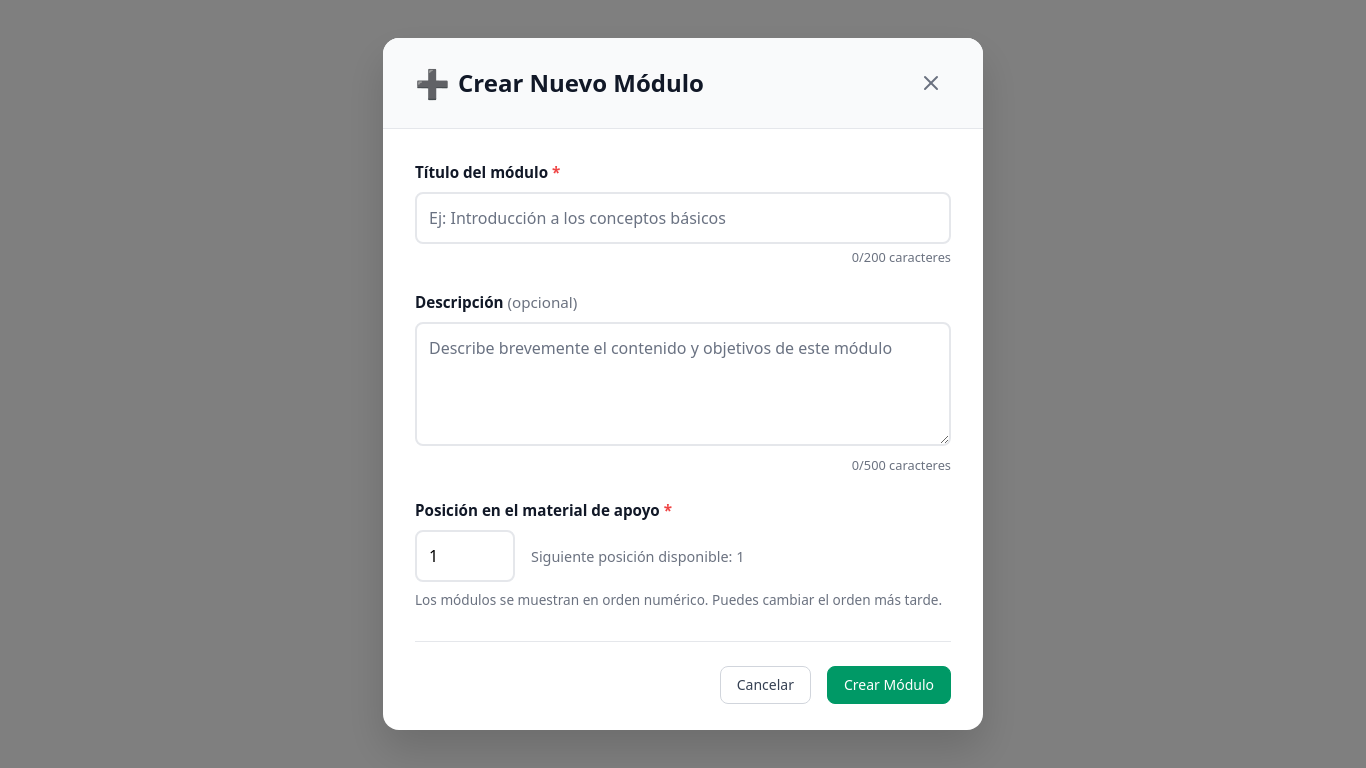
it: ModuleForm › validates required title before submitting
Click the button "Crear Módulo" at (889, 685), box [827,666,951,704]
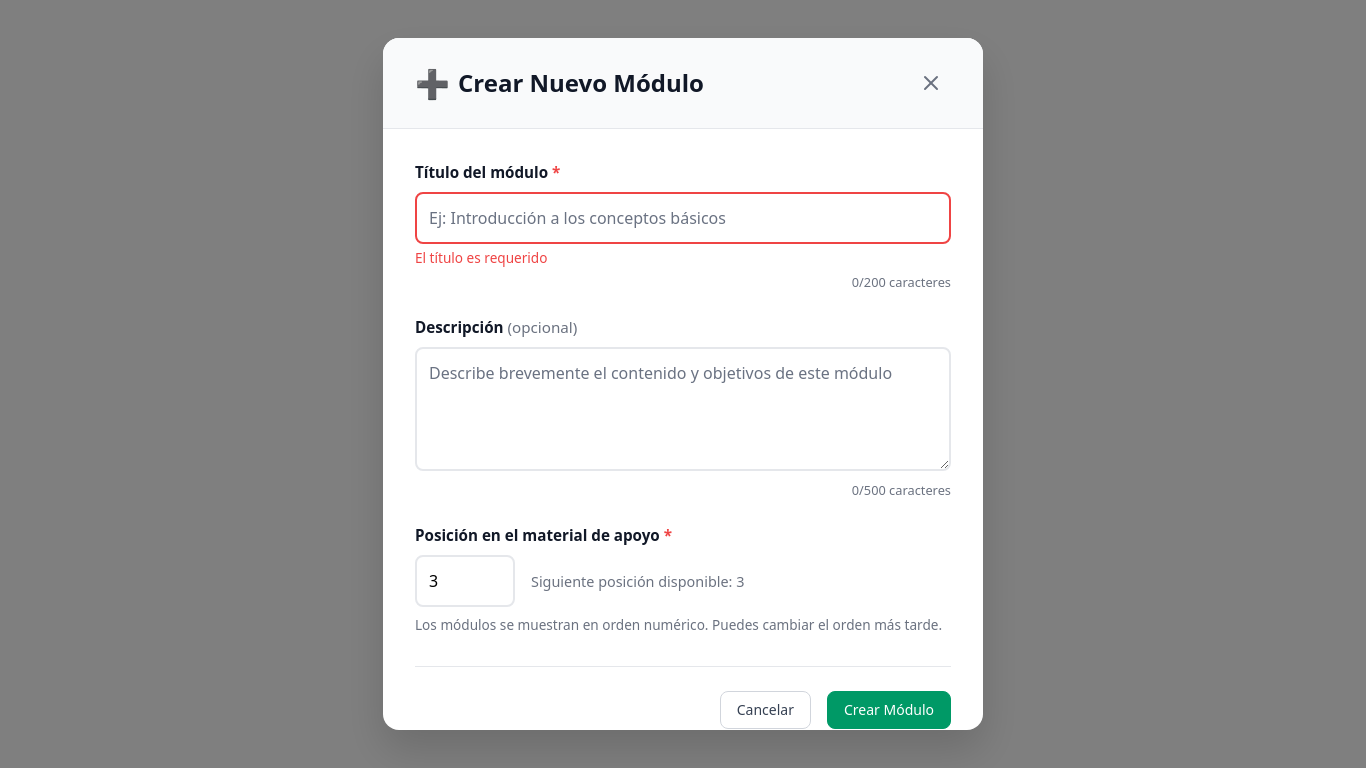
Now the text "El título es requerido" is shown, box [415,248,548,267]
